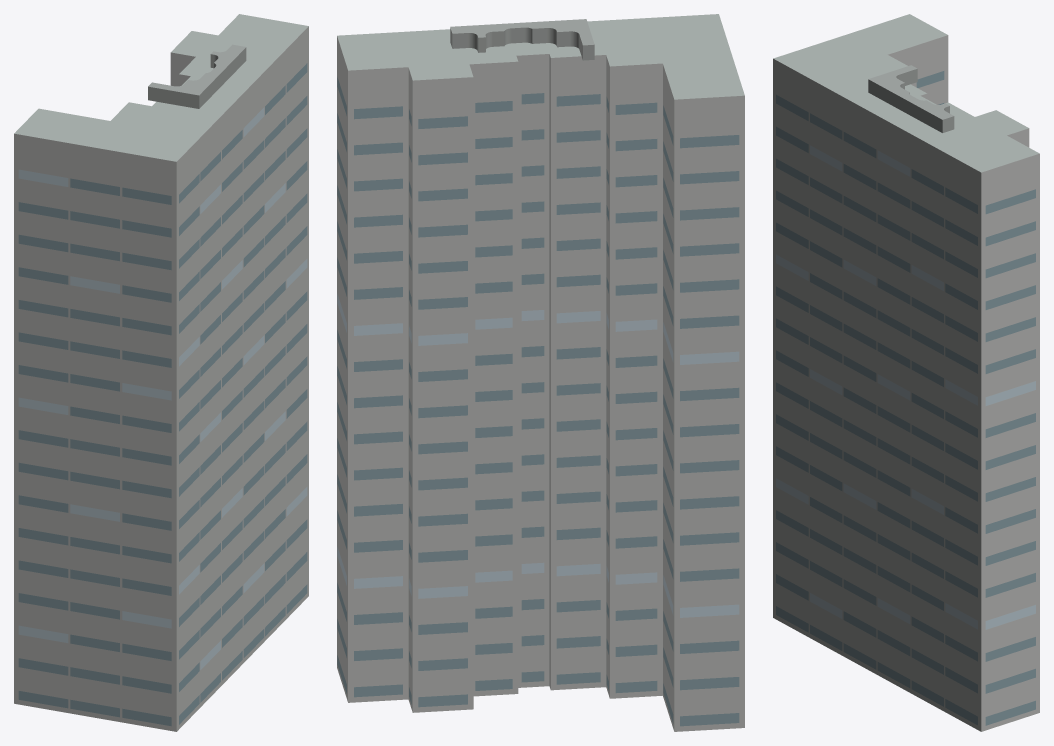
File: fallback-gaepo-raemian-forest-115.glb
3 views of the same model, side by side, from view 1: azimuth 30°, elevation 25°; view 2: azimuth 150°, elevation 25°; view 3: azimuth 270°, elevation 25° (orthographic). The views are drawn at different scales.
Visible parts, largest first — view 1: fallback-gaepo-raemian-forest-115; view 2: fallback-gaepo-raemian-forest-115; view 3: fallback-gaepo-raemian-forest-115.
Part boxes in pixels (left/top/right/bottom): fallback-gaepo-raemian-forest-115: left=14, top=14, right=308, bottom=731; fallback-gaepo-raemian-forest-115: left=337, top=14, right=744, bottom=731; fallback-gaepo-raemian-forest-115: left=773, top=14, right=1039, bottom=731.
Bounding box in the file's own units: 61.19 × 103 × 43.47.
